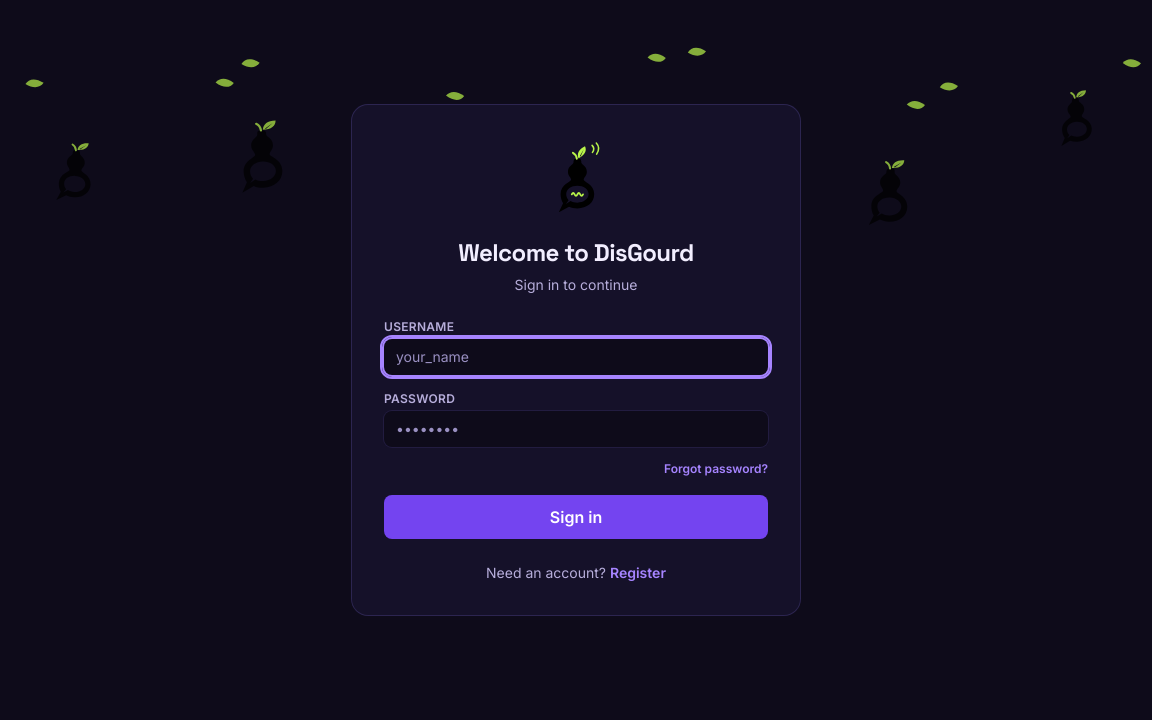
Scenario: "Forgot password?" shows only when the server can send email
Expected: the button "Forgot password?" is shown, [664,461,768,477]
// Not on the sign-up form.
Click the button "Register" at x=638, y=573, box [610,563,666,583]
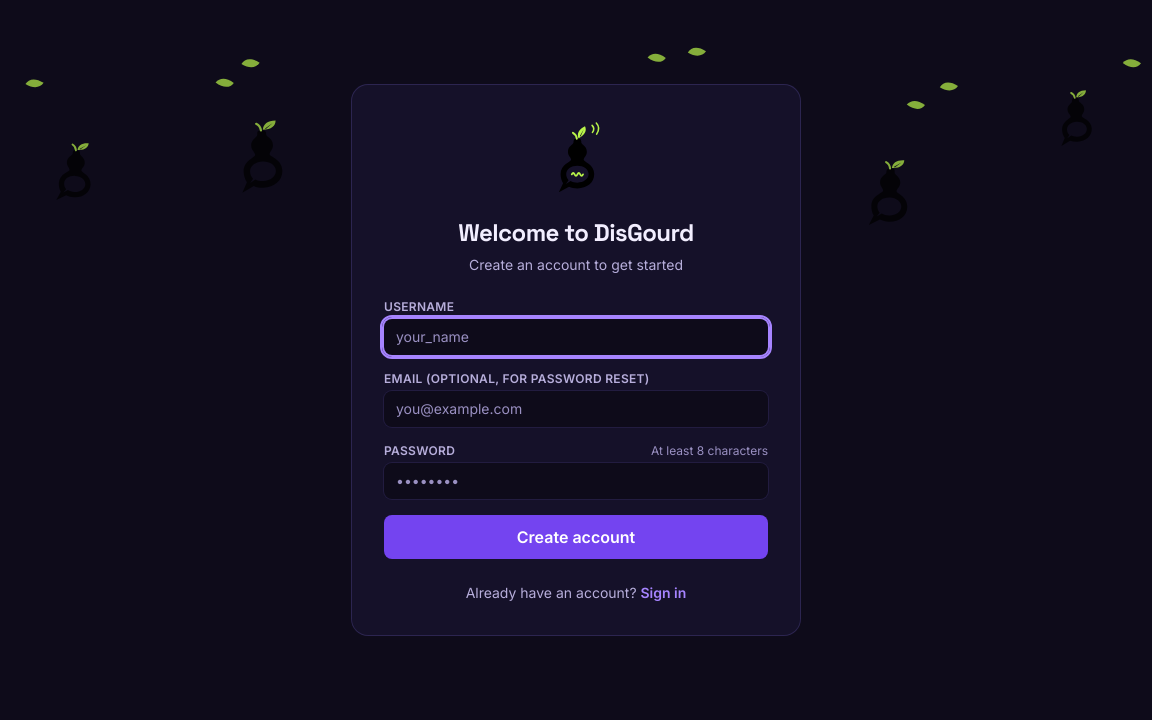
Now the button "Forgot password?" is gone
